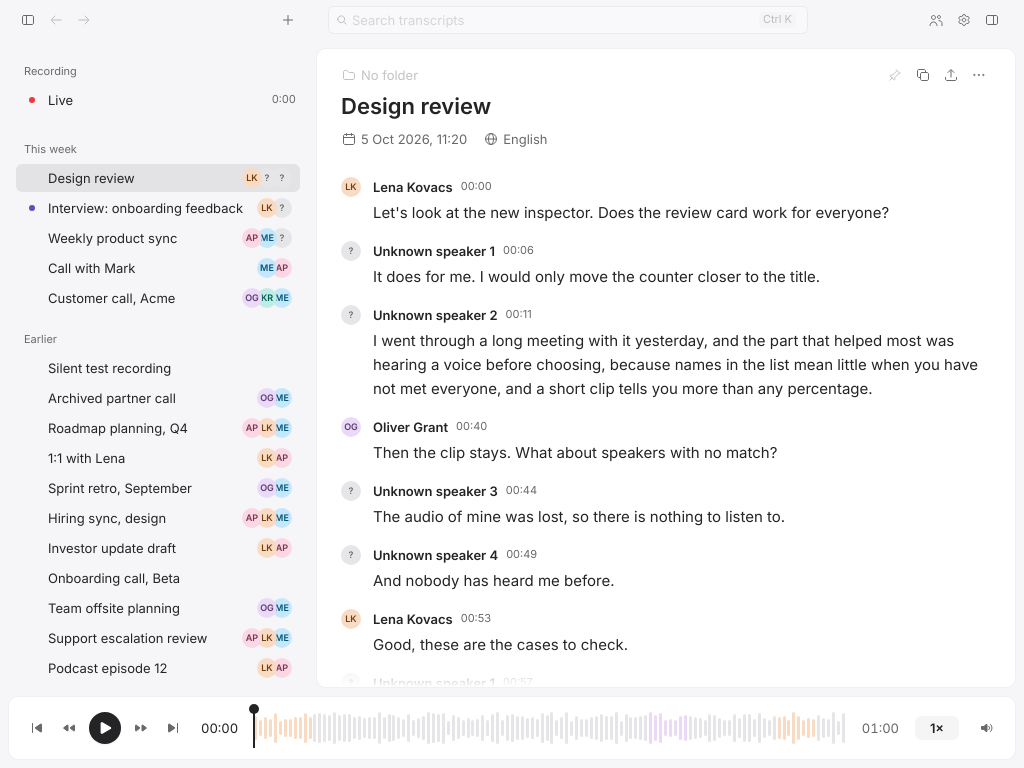
Scenario: Delete all data waits for a live recording to stop
Expected: the element "This week" is shown, [16, 138, 300, 312]
Click the button named "Settings". click: (964, 20)
box: [952, 8, 976, 32]
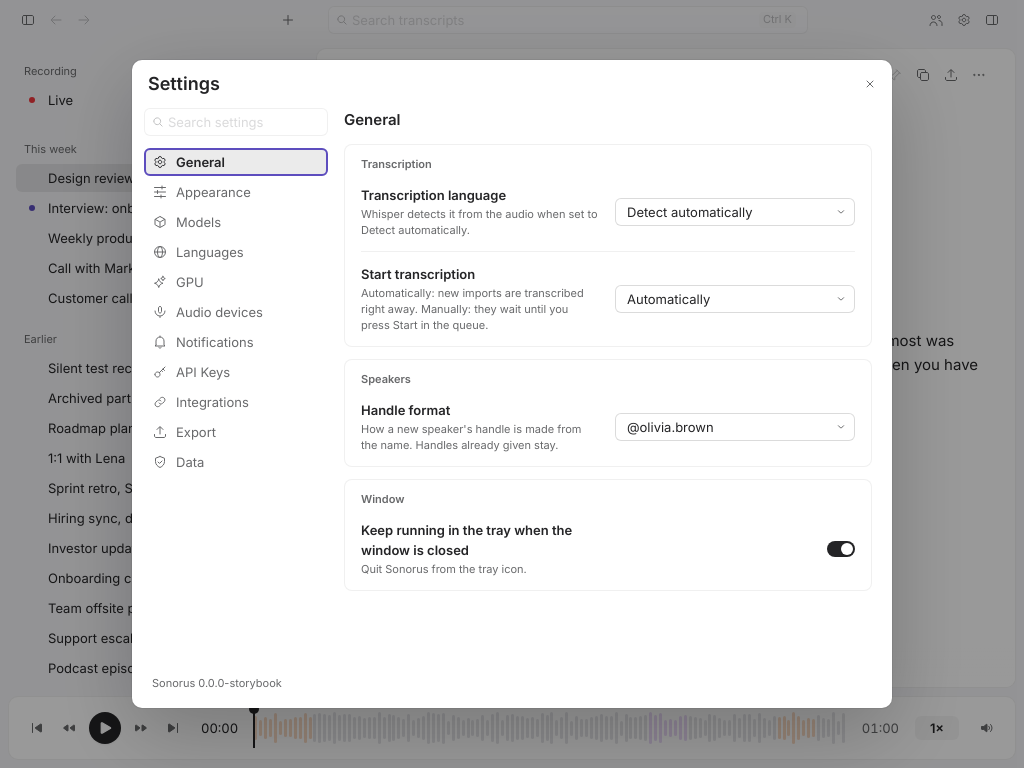
Click the tab "Data". click: (236, 462)
box: [144, 448, 328, 476]
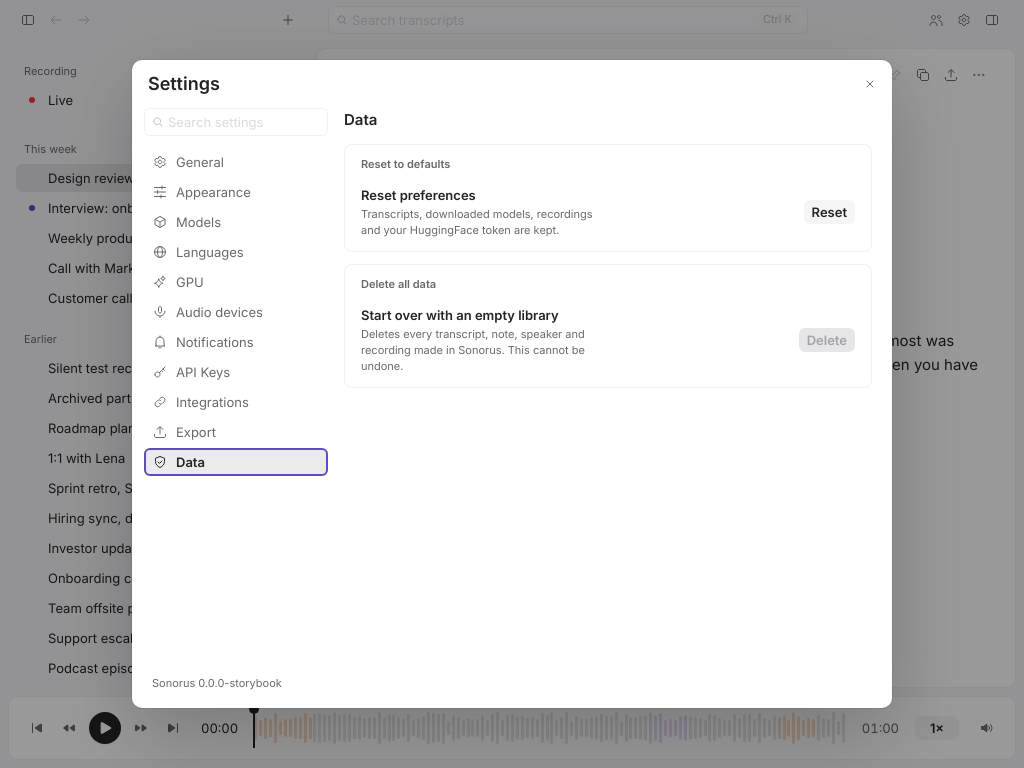
Hover over the element showing "Delete" at (827, 340), box [799, 328, 855, 352]
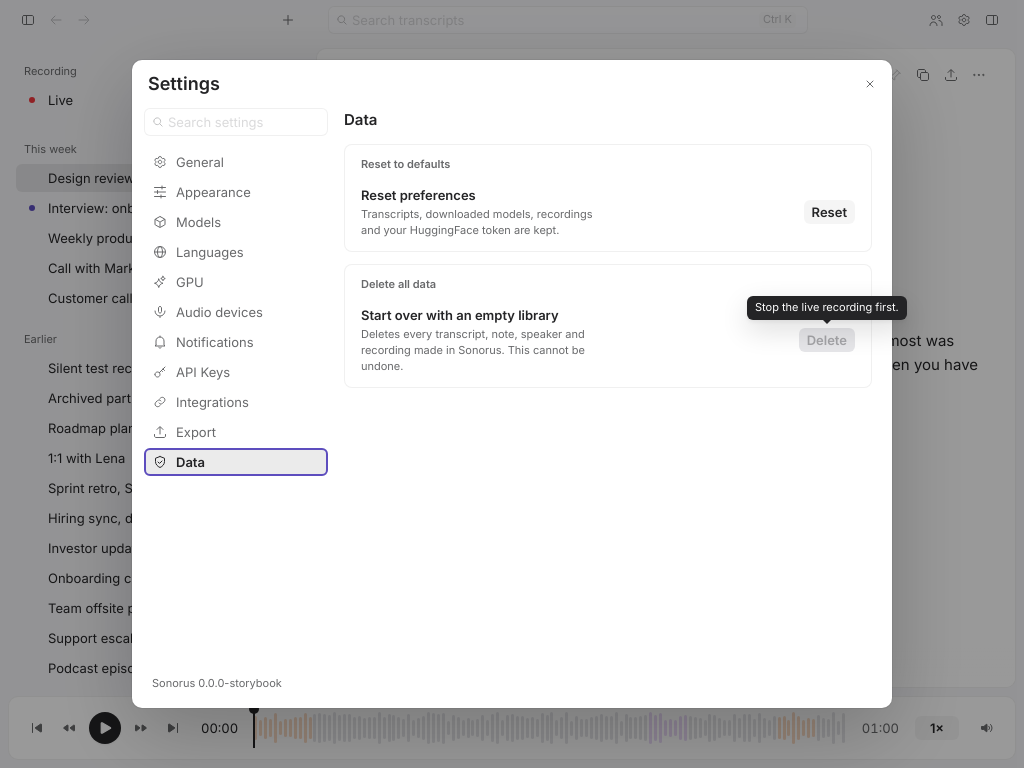
Now the tooltip reads "Stop the live recording first.", box [755, 300, 899, 314]
